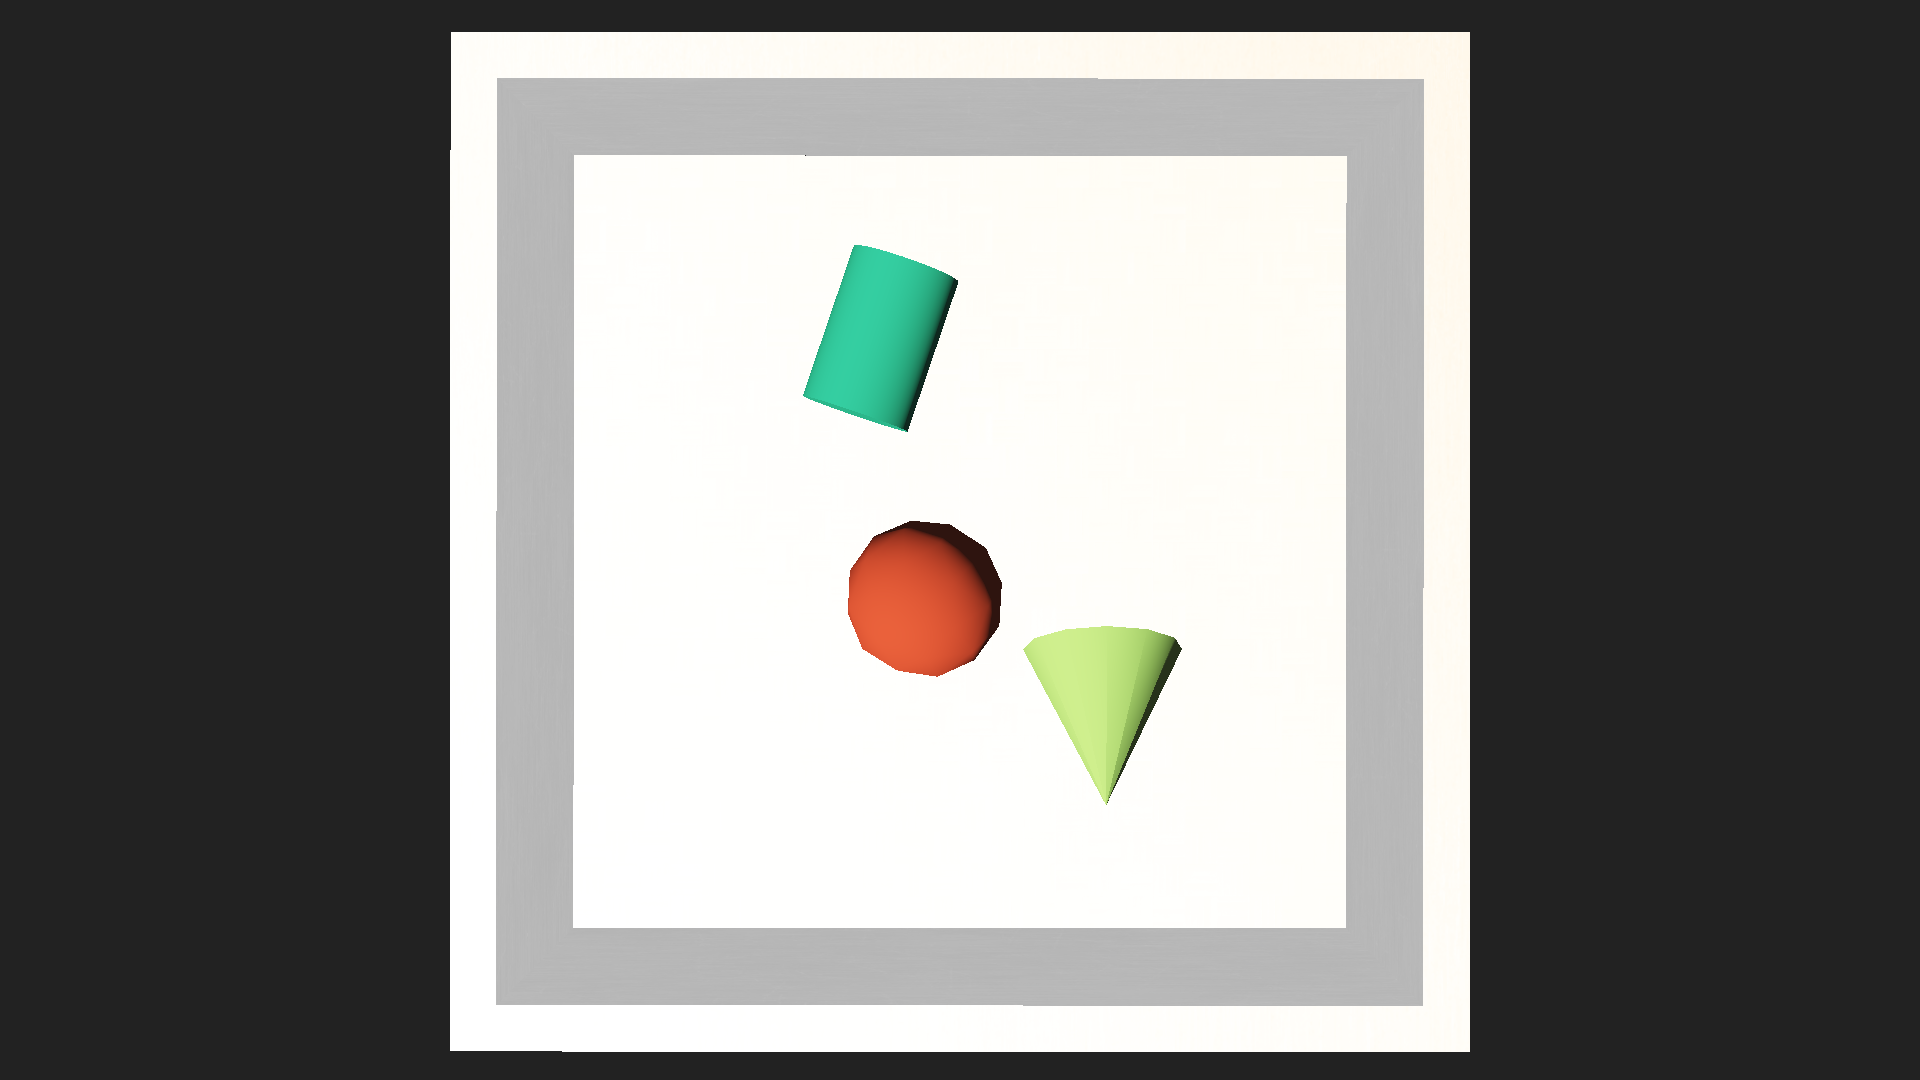cone: (798, 239, 957, 434)
cylinder: (1029, 622, 1185, 837)
sphere: (844, 517, 1004, 676)
